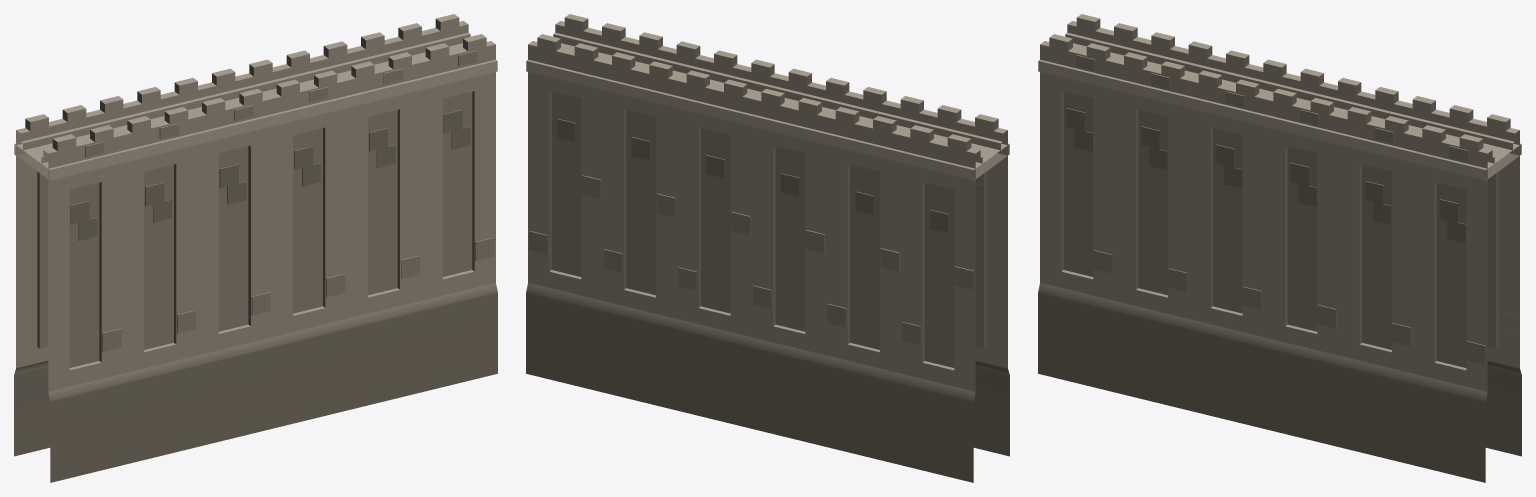
Rendered from sce_wall.glb.
The picture shows the model from 3 angles, left to right: view 1: azimuth 30°, elevation 25°; view 2: azimuth 150°, elevation 25°; view 3: azimuth 330°, elevation 25°; orthographic projection.
Visible parts, largest first — view 1: wall; view 2: wall; view 3: wall.
Boxes of the visible parts, left/top/right/bottom form: wall: left=14, top=14, right=497, bottom=482; wall: left=526, top=14, right=1009, bottom=482; wall: left=1038, top=14, right=1521, bottom=482.
Bounding box in the file's own units: 6 × 4.32 × 0.84.
1 material, 1 textured.
